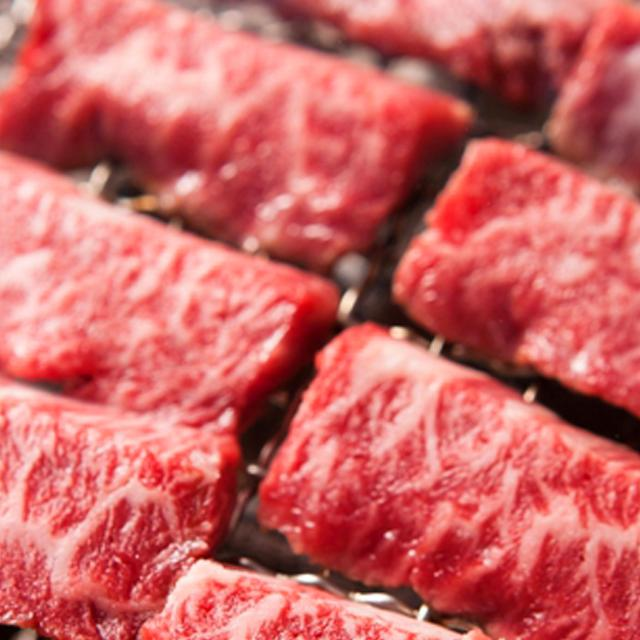beef: (335, 319, 640, 573), (0, 348, 216, 604), (190, 562, 640, 640)
